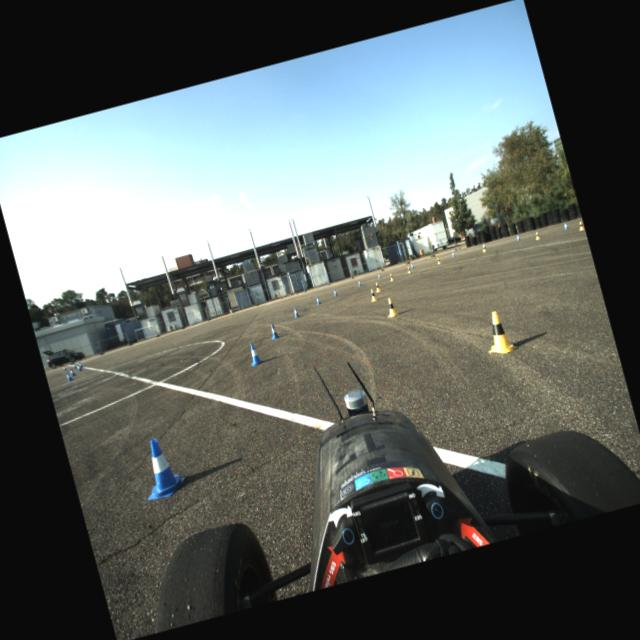blue_cone: (134, 434, 188, 501), (246, 342, 262, 366), (268, 322, 278, 338), (65, 371, 73, 381), (292, 306, 299, 317), (69, 368, 75, 377), (562, 222, 568, 229), (315, 296, 320, 304), (332, 288, 337, 295), (376, 272, 381, 278), (77, 365, 82, 371), (516, 234, 520, 240), (482, 242, 486, 248), (357, 280, 361, 286), (62, 364, 66, 370), (72, 362, 76, 368), (410, 263, 414, 268), (78, 362, 82, 367), (451, 252, 455, 256)
yellow_cone: (479, 308, 516, 356), (384, 296, 397, 316), (368, 288, 376, 301), (577, 220, 584, 230), (374, 281, 380, 292), (534, 231, 540, 240), (388, 272, 393, 281), (481, 244, 486, 252), (406, 266, 411, 274), (436, 256, 440, 264)
